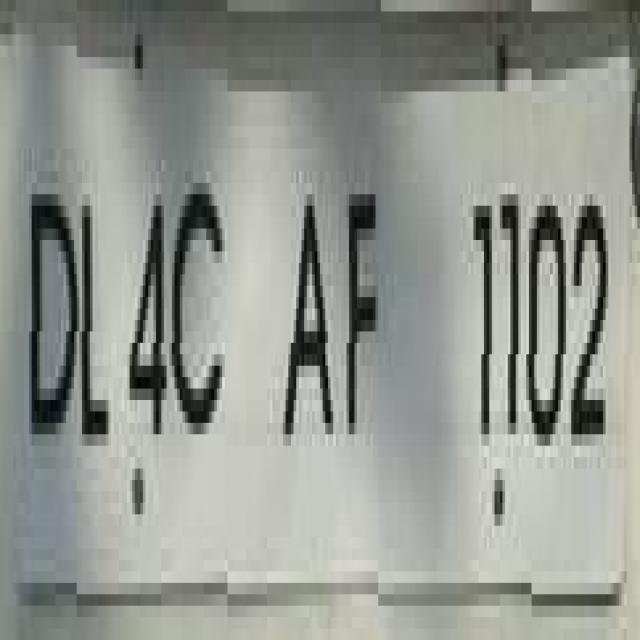license_plate: (0, 11, 608, 628)
